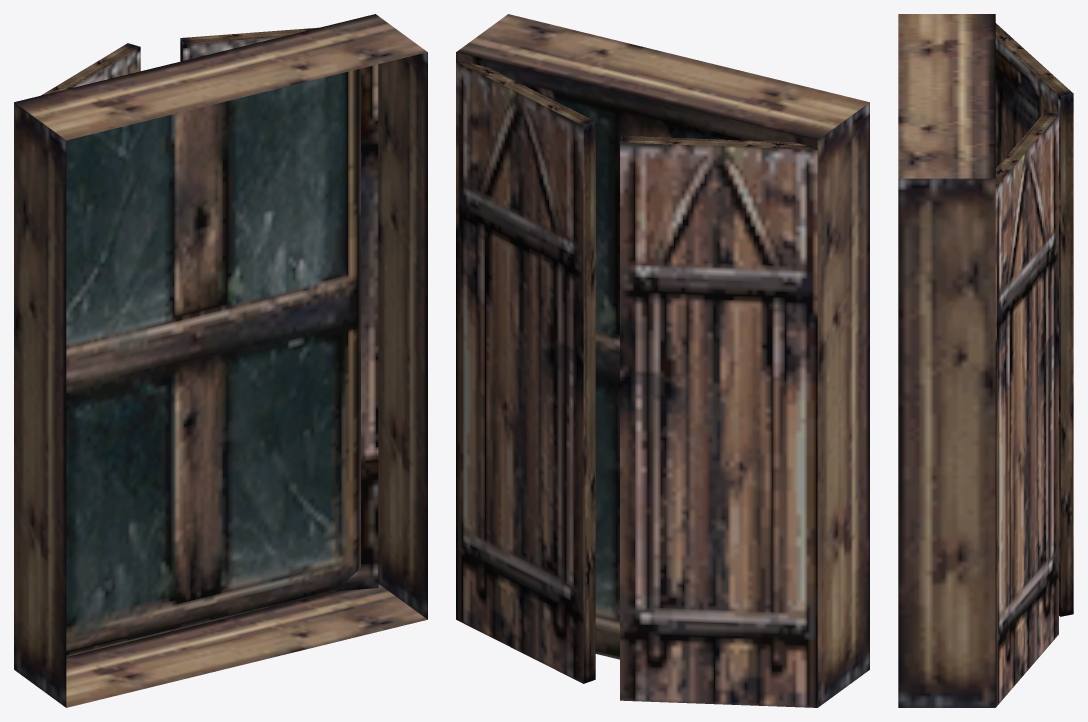
Rendered from loc2_22.glb.
3 renders of one model, left to right at view 1: azimuth 30°, elevation 25°; view 2: azimuth 150°, elevation 25°; view 3: azimuth 270°, elevation 25°, orthographic. The views are drawn at different scales.
Parts seen in each view (by area): view 1: loc2_22-col; view 2: loc2_22-col; view 3: loc2_22-col.
Boxes of the visible parts, left/top/right/bottom form: loc2_22-col: left=14, top=14, right=427, bottom=707; loc2_22-col: left=456, top=14, right=869, bottom=707; loc2_22-col: left=898, top=14, right=1073, bottom=707.
Size of the model in its own units: 1.22 by 1.83 by 0.5491.
1 material, 1 textured.
